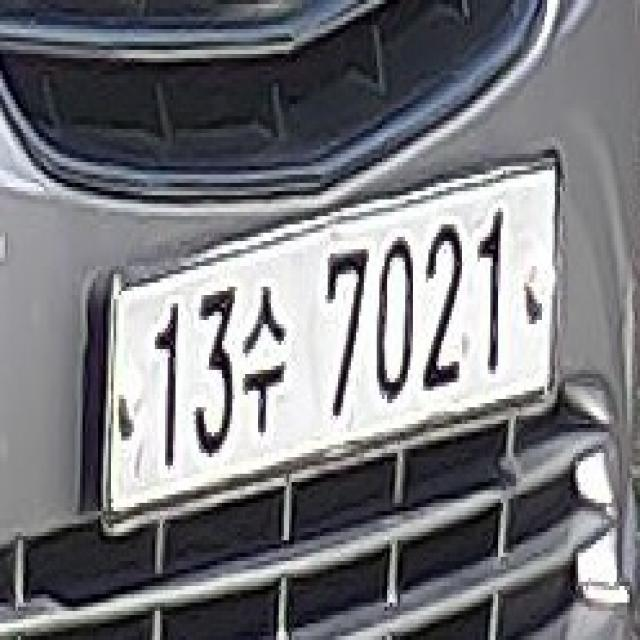0: (374, 220, 426, 424)
1: (140, 291, 193, 482), (469, 191, 514, 395)
2: (421, 220, 467, 408)
3: (191, 270, 245, 474)
7: (320, 229, 374, 432)
license_plate: (88, 141, 573, 553)
su: (240, 270, 297, 457)
